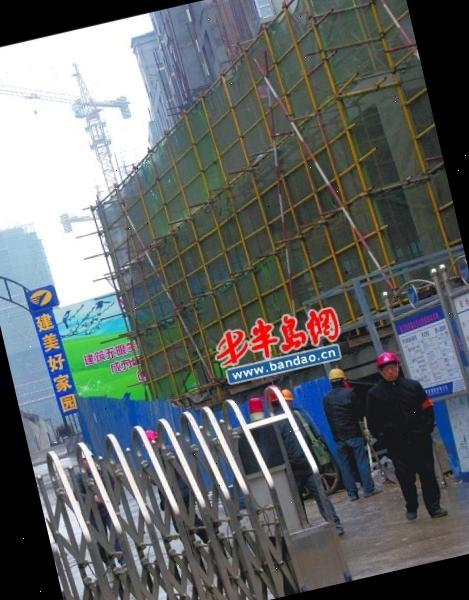helmet: (373, 349, 401, 371), (325, 364, 347, 386)
no_wear: (366, 376, 433, 446)
